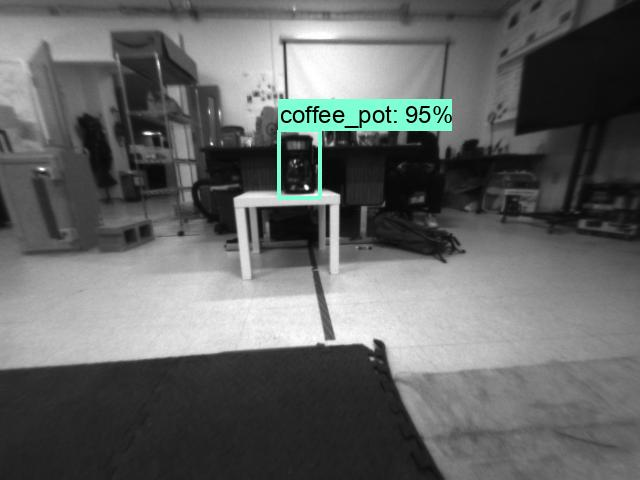coffee_pot: (274, 129, 320, 196)
